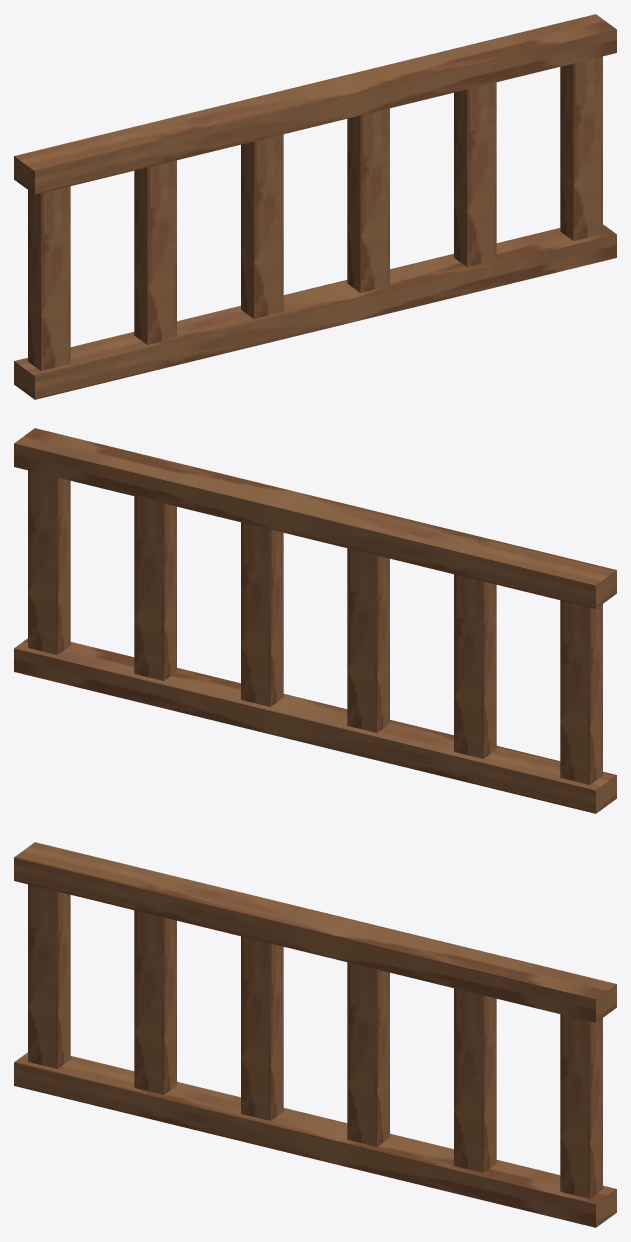
The model's file is railing_1.fbx.
The picture shows the model from 3 angles, top to bottom: view 1: azimuth 30°, elevation 25°; view 2: azimuth 150°, elevation 25°; view 3: azimuth 330°, elevation 25°; orthographic projection.
Parts seen in each view (by area): view 1: railing_1; view 2: railing_1; view 3: railing_1.
Part boxes in pixels (x1,y1,x2,y2): railing_1: [14, 14, 616, 399]; railing_1: [14, 428, 616, 813]; railing_1: [14, 842, 616, 1227].
Size of the model in its own units: 256 by 16 by 96.
